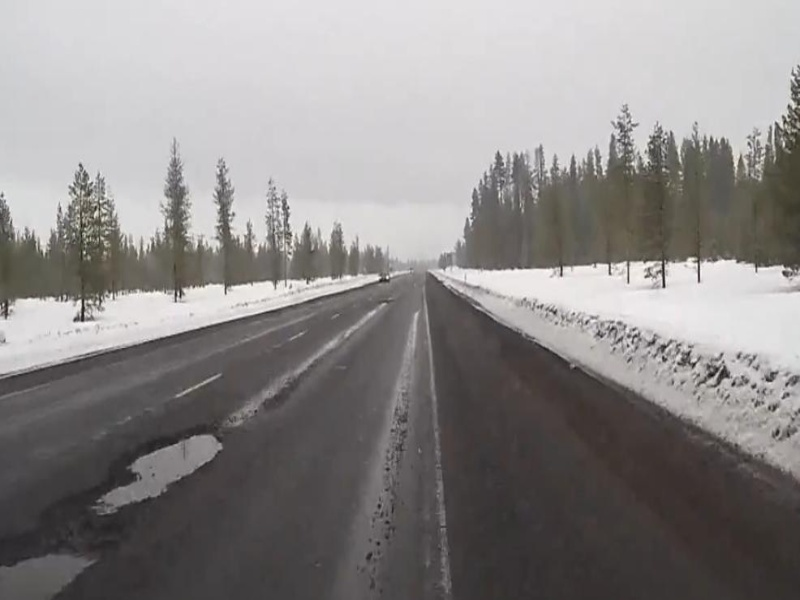pothole: (92, 425, 233, 517)
